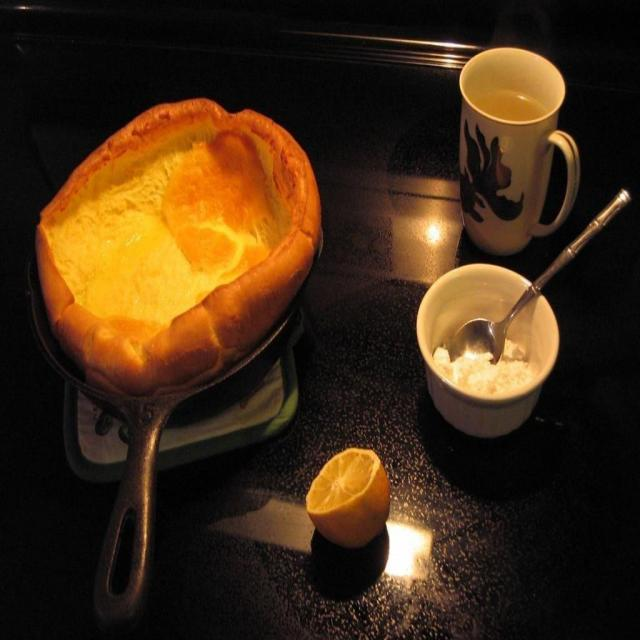cup-handle: (458, 46, 581, 260)
